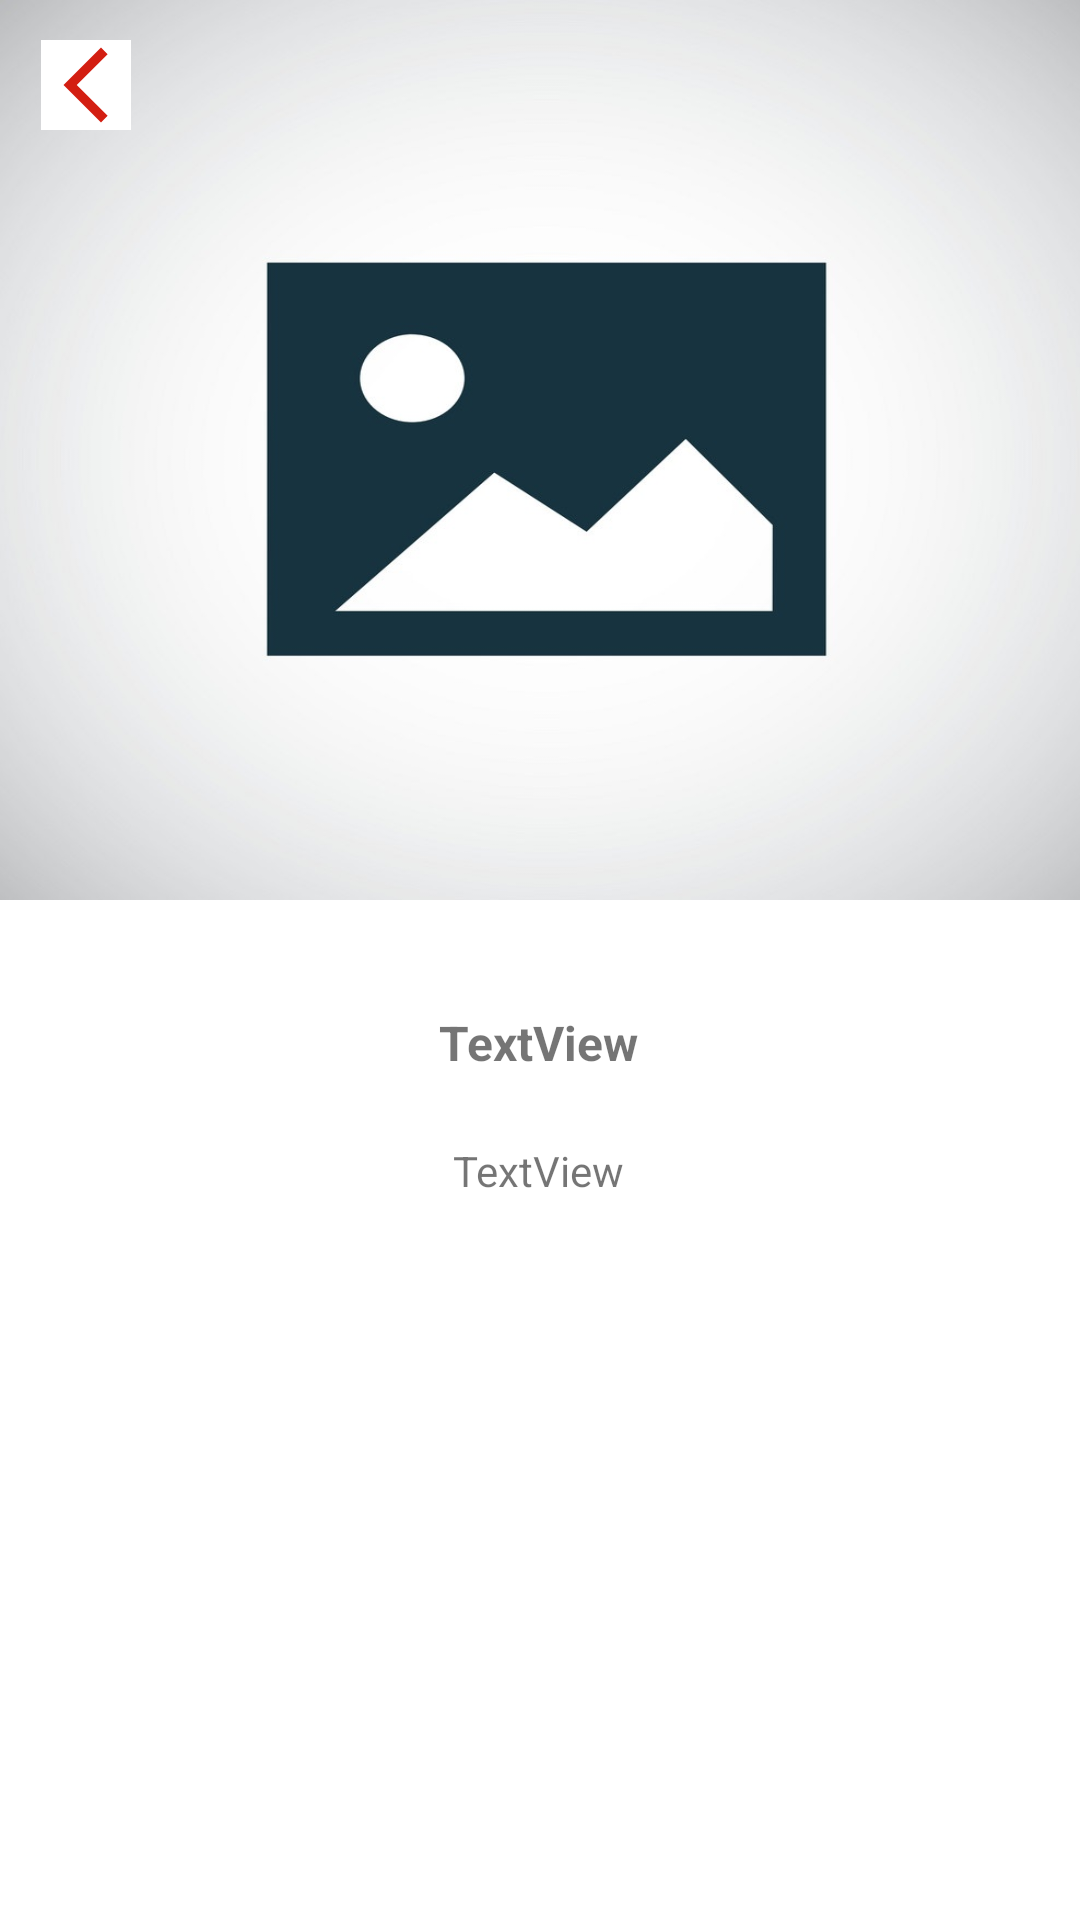

Icon bounding boxes for this 1080x1920 phone screenshot, format (x1, y1, x2, y2):
previous: (41, 40, 131, 130)
